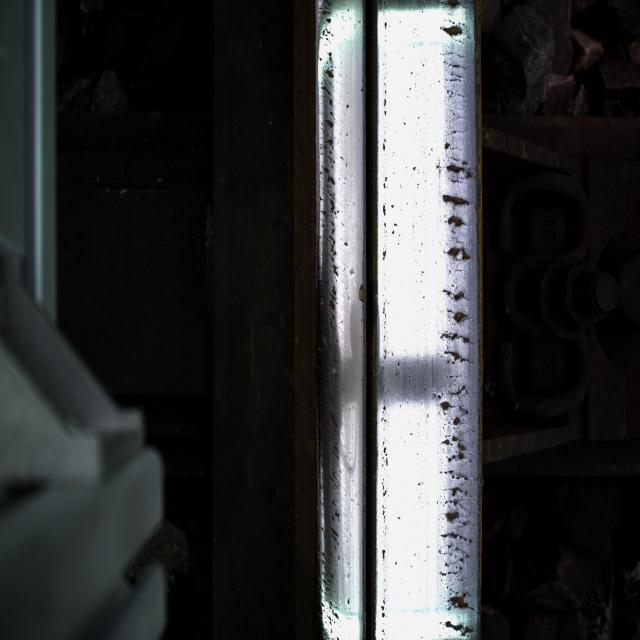crack: (428, 12, 488, 626)
